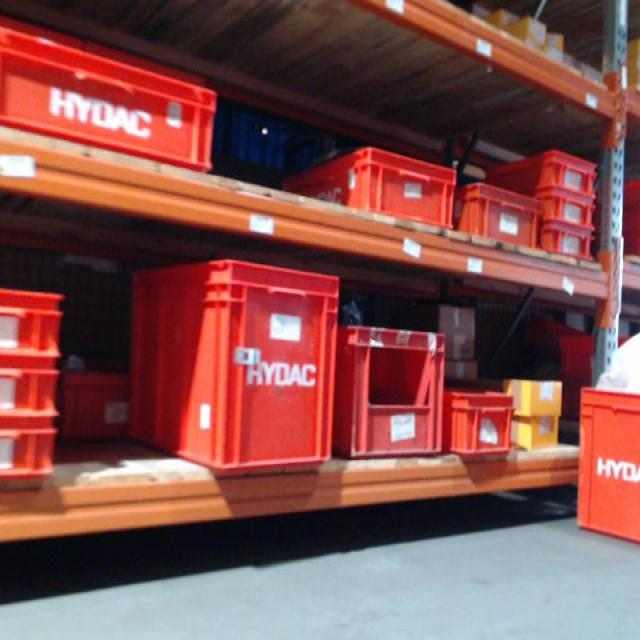small_load_carrier: (123, 257, 341, 471), (4, 18, 224, 181), (291, 147, 459, 245), (338, 318, 446, 460), (580, 390, 638, 545), (440, 379, 520, 459), (453, 176, 537, 252), (478, 148, 600, 199), (0, 277, 75, 359), (2, 357, 69, 425), (2, 417, 62, 491), (69, 372, 130, 439), (526, 227, 603, 271), (526, 198, 600, 227)
